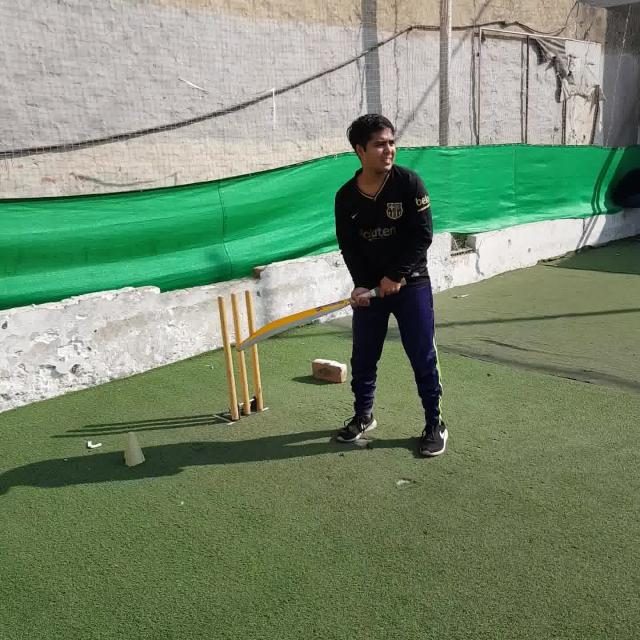bat: (237, 277, 407, 349)
